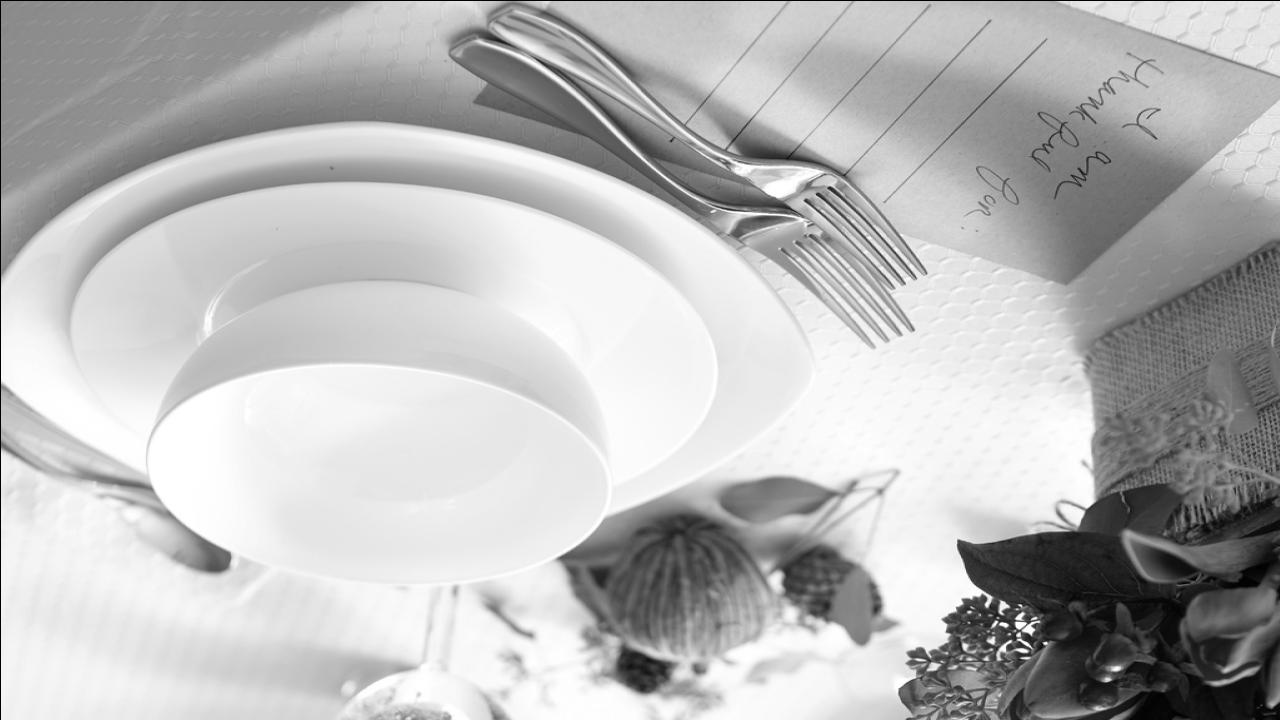fork: (438, 26, 912, 350), (481, 1, 931, 290)
